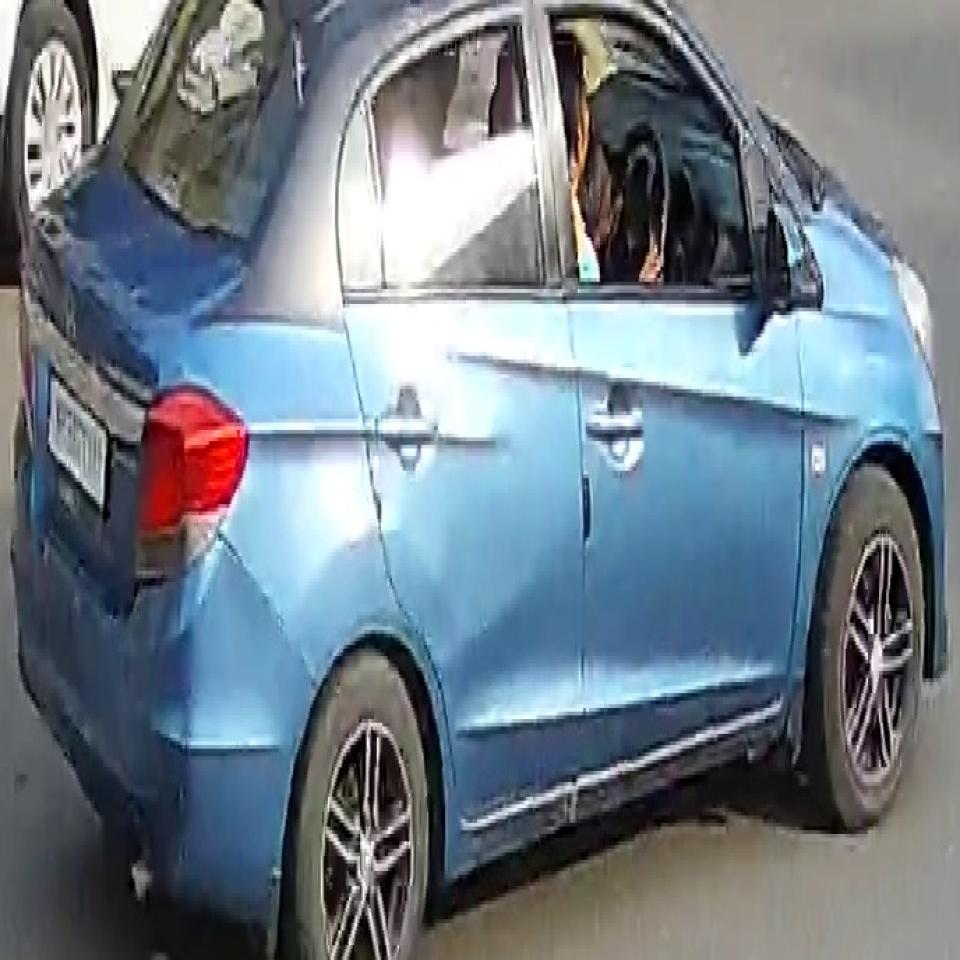tail_light: (136, 377, 250, 555)
